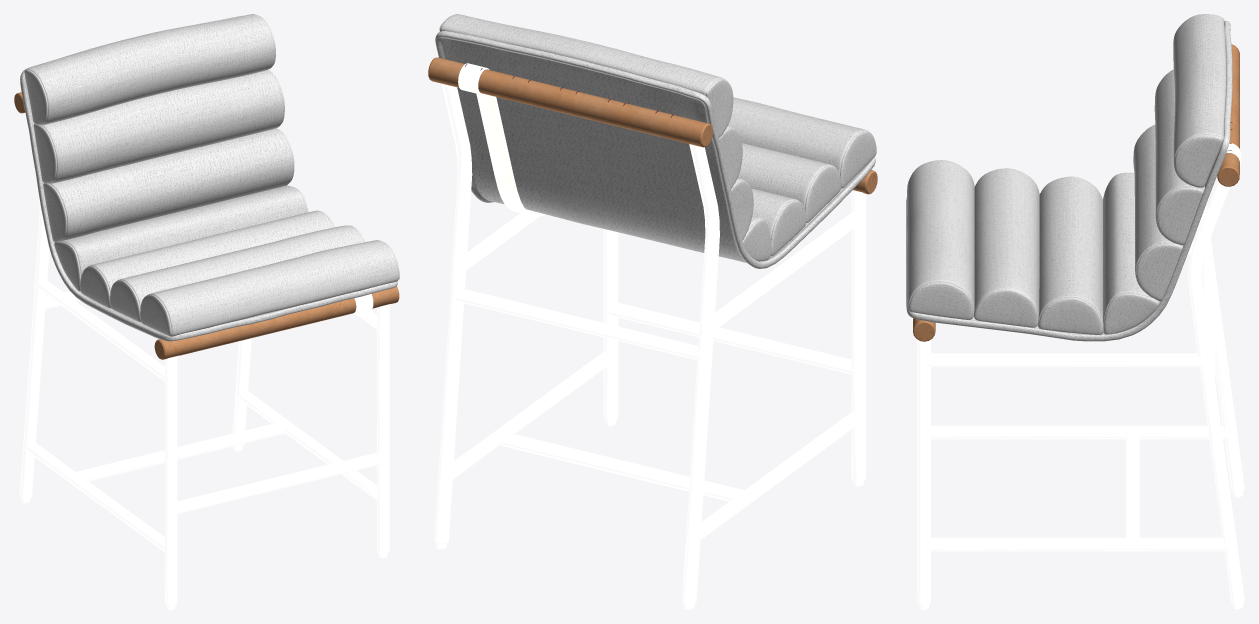
Rendered from bar_stool.glb.
3 renders of one model, left to right at view 1: azimuth 30°, elevation 25°; view 2: azimuth 150°, elevation 25°; view 3: azimuth 270°, elevation 25°, orthographic. The views are drawn at different scales.
Visible parts, largest first — view 1: Cube; view 2: Cube; view 3: Cube.
Part boxes in pixels (bbox=[...]): Cube: bbox=[14, 14, 399, 609]; Cube: bbox=[428, 14, 877, 609]; Cube: bbox=[906, 14, 1244, 609].
Bounding box in the file's own units: 0.5227 × 0.9472 × 0.6012.
Materials: 5 (4 with a texture image).
